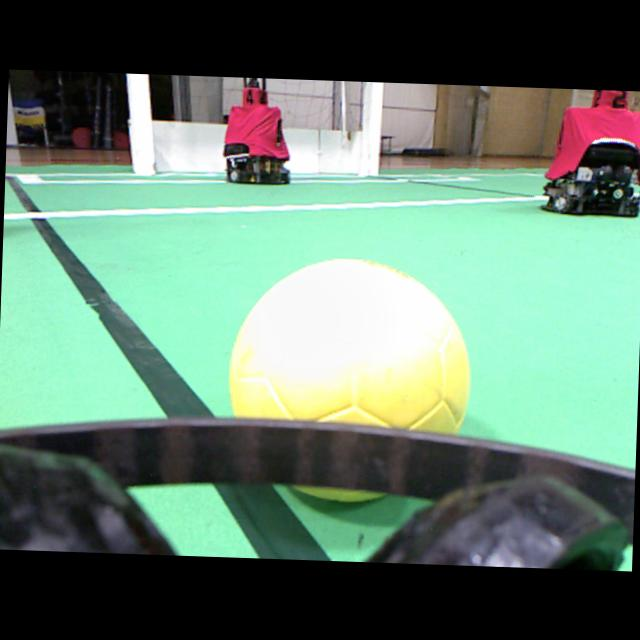ball: (229, 259, 468, 432)
goal: (126, 73, 153, 174), (360, 81, 382, 175)
